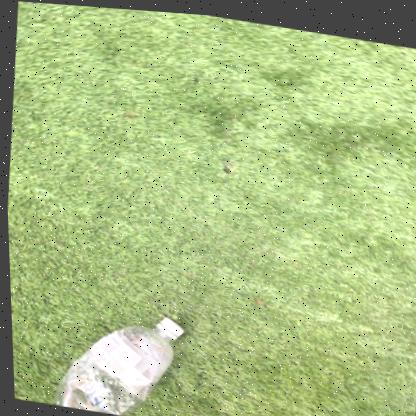Plastic: (50, 315, 180, 414)
